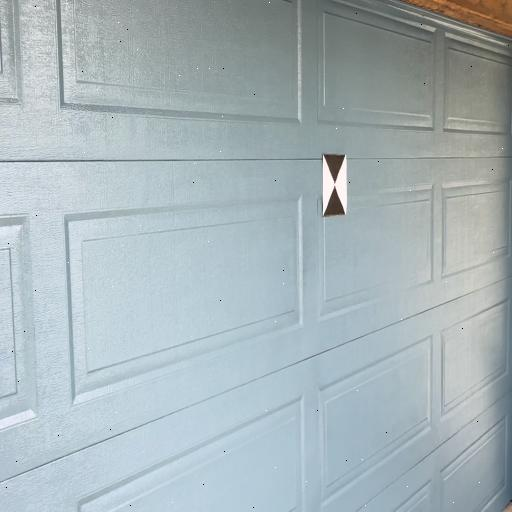target: (323, 156, 347, 216)
